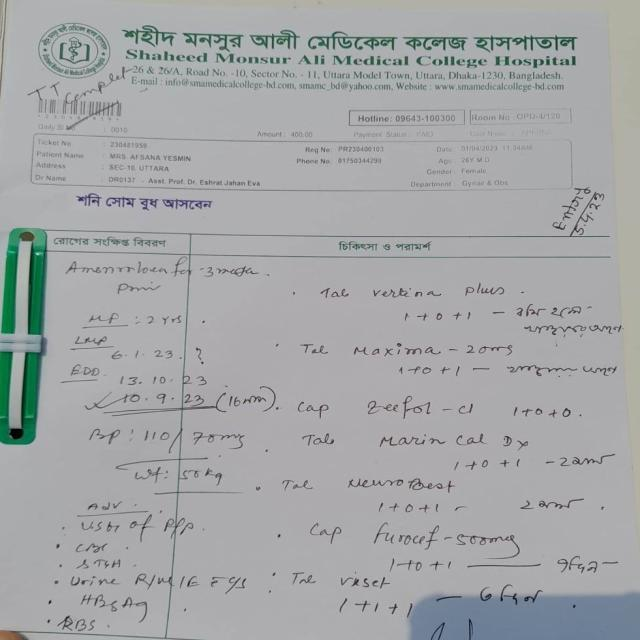medicine: (376, 427, 532, 455), (330, 468, 460, 500), (364, 394, 482, 422), (363, 279, 519, 299), (366, 519, 441, 555), (343, 338, 445, 362), (332, 566, 397, 593)
